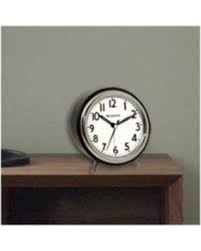alarm_clock: (68, 86, 150, 172), (75, 86, 150, 172)
